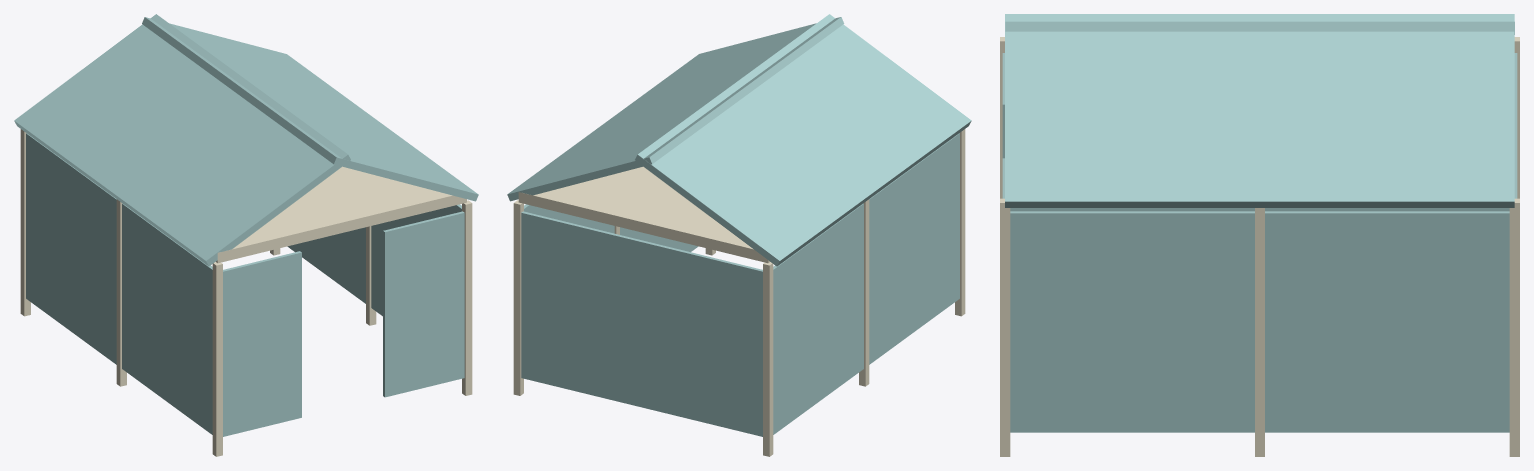
File: cozy-farm-and-homestead-potting-greenhouse-a45523ee__19369.glb
3 views of the same model, side by side, from view 1: azimuth 30°, elevation 25°; view 2: azimuth 150°, elevation 25°; view 3: azimuth 270°, elevation 25° (orthographic). The views are drawn at different scales.
Visible parts, largest first — view 1: potting-greenhouse; view 2: potting-greenhouse; view 3: potting-greenhouse.
Boxes of the visible parts, left/top/right/bottom form: potting-greenhouse: left=14, top=14, right=478, bottom=456; potting-greenhouse: left=507, top=14, right=971, bottom=456; potting-greenhouse: left=1000, top=14, right=1519, bottom=456.
Size of the model in its own units: 3.28 by 3.09 by 4.08.
